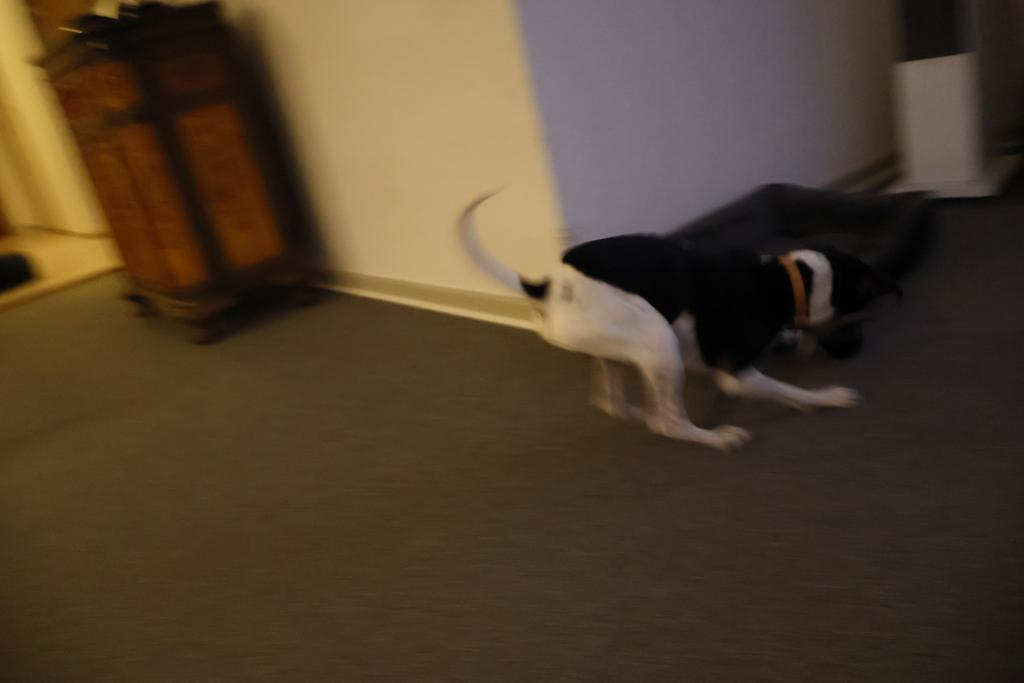Dog: (439, 158, 887, 466)
